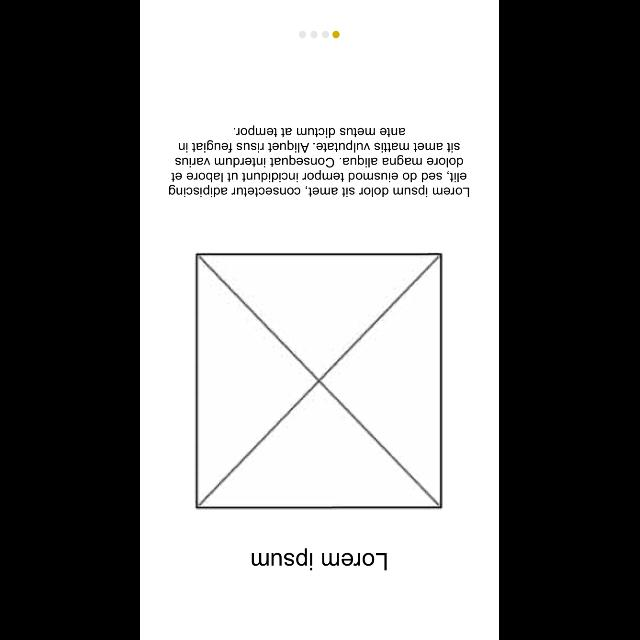image: (194, 252, 443, 510)
pageindicator: (298, 31, 339, 39)
text: (168, 125, 470, 197), (252, 548, 388, 570)
